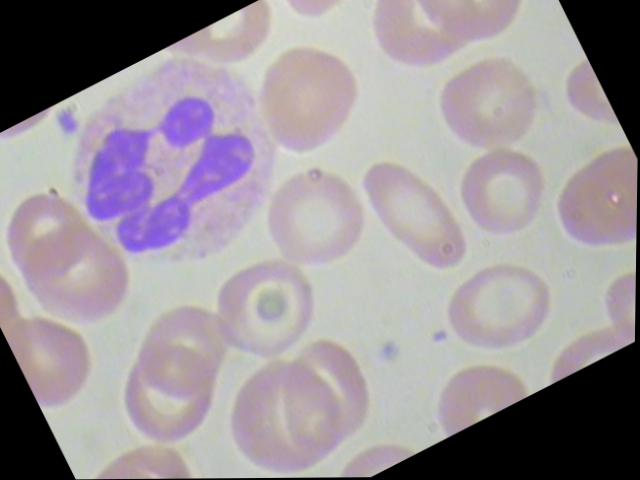Platelets: (47, 100, 86, 145), (370, 332, 411, 373)
Red Blood Cells: (235, 20, 389, 173), (194, 342, 362, 478), (424, 238, 578, 383), (349, 133, 484, 296), (194, 239, 345, 380), (9, 212, 152, 353), (415, 35, 558, 173), (260, 322, 395, 465), (248, 147, 388, 283), (528, 138, 637, 286), (439, 127, 566, 252), (105, 336, 233, 459), (0, 170, 111, 298), (396, 0, 557, 71)
White Blood Cells: (34, 20, 330, 306)
